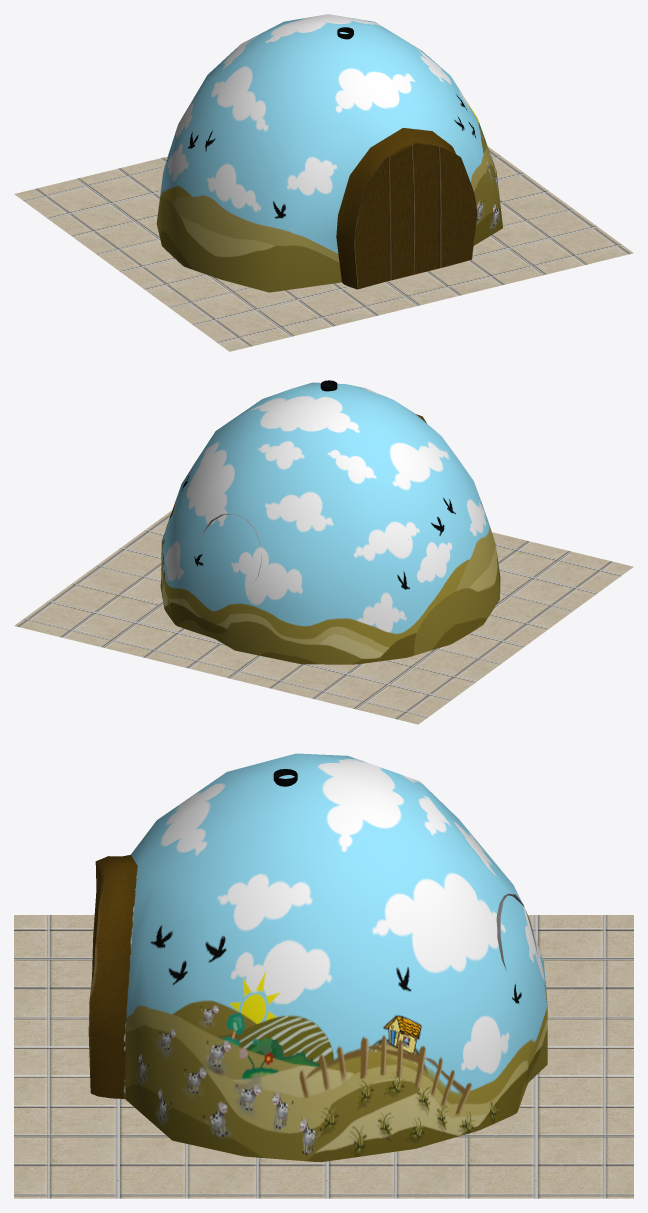
Rendered from casa interna.FBX.
The picture shows the model from 3 angles, top to bottom: view 1: azimuth 30°, elevation 25°; view 2: azimuth 150°, elevation 25°; view 3: azimuth 270°, elevation 25°; orthographic projection. The views are drawn at different scales.
Parts seen in each view (by area): view 1: iglu interno01, chão; view 2: iglu interno01, chão; view 3: iglu interno01, chão.
Part boxes in pixels (x1,y1,x2,y2): iglu interno01: (156,14,502,292); chão: (14,146,633,351); iglu interno01: (160,382,500,664); chão: (14,510,633,724); iglu interno01: (88,753,547,1162); chão: (14,915,633,1198).
Bounding box in the file's own units: 1892 × 1748 × 921.
